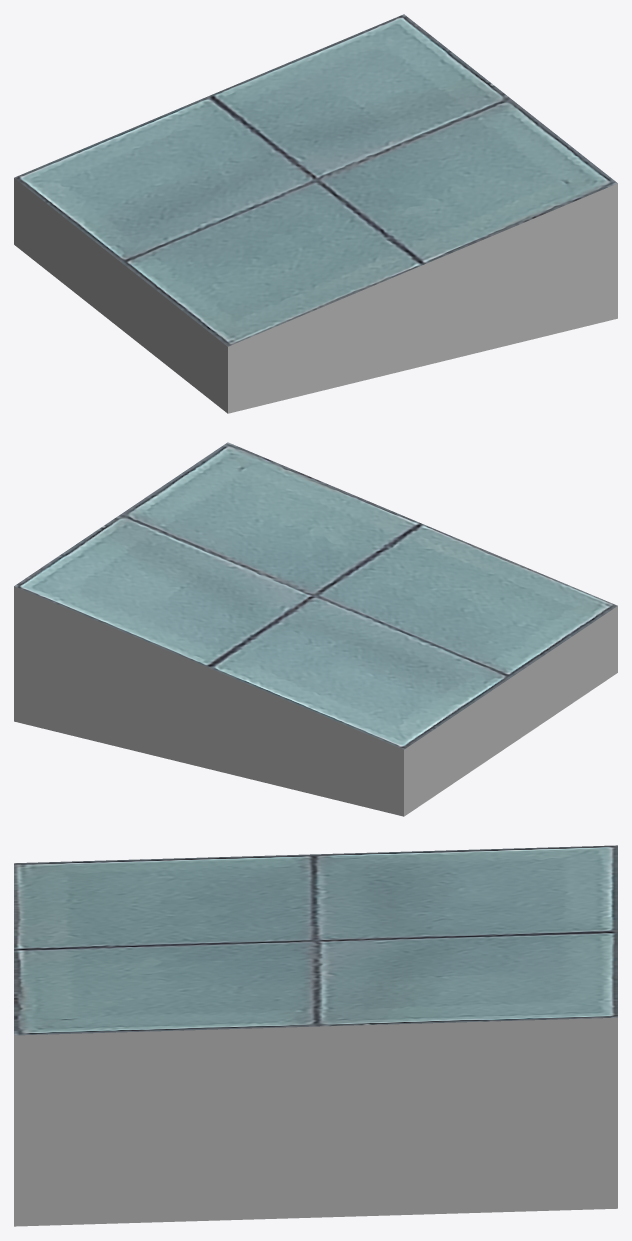
The model's file is SM_Roof_Window_1.fbx.
3 views of the same model, one above another, from view 1: azimuth 30°, elevation 25°; view 2: azimuth 150°, elevation 25°; view 3: azimuth 270°, elevation 25° (orthographic). The views are drawn at different scales.
Parts seen in each view (by area): view 1: SM_Roof_Window_1; view 2: SM_Roof_Window_1; view 3: SM_Roof_Window_1.
Part boxes in pixels (<box>): SM_Roof_Window_1: <box>14,14,617,413</box>; SM_Roof_Window_1: <box>14,442,617,816</box>; SM_Roof_Window_1: <box>14,845,617,1226</box>.
Bounding box in the file's own units: 143 × 135 × 51.66.
